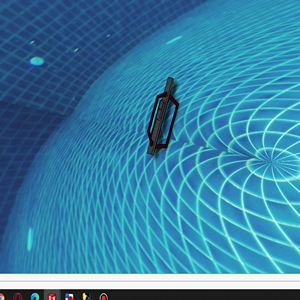submarine: (149, 76, 180, 159)
